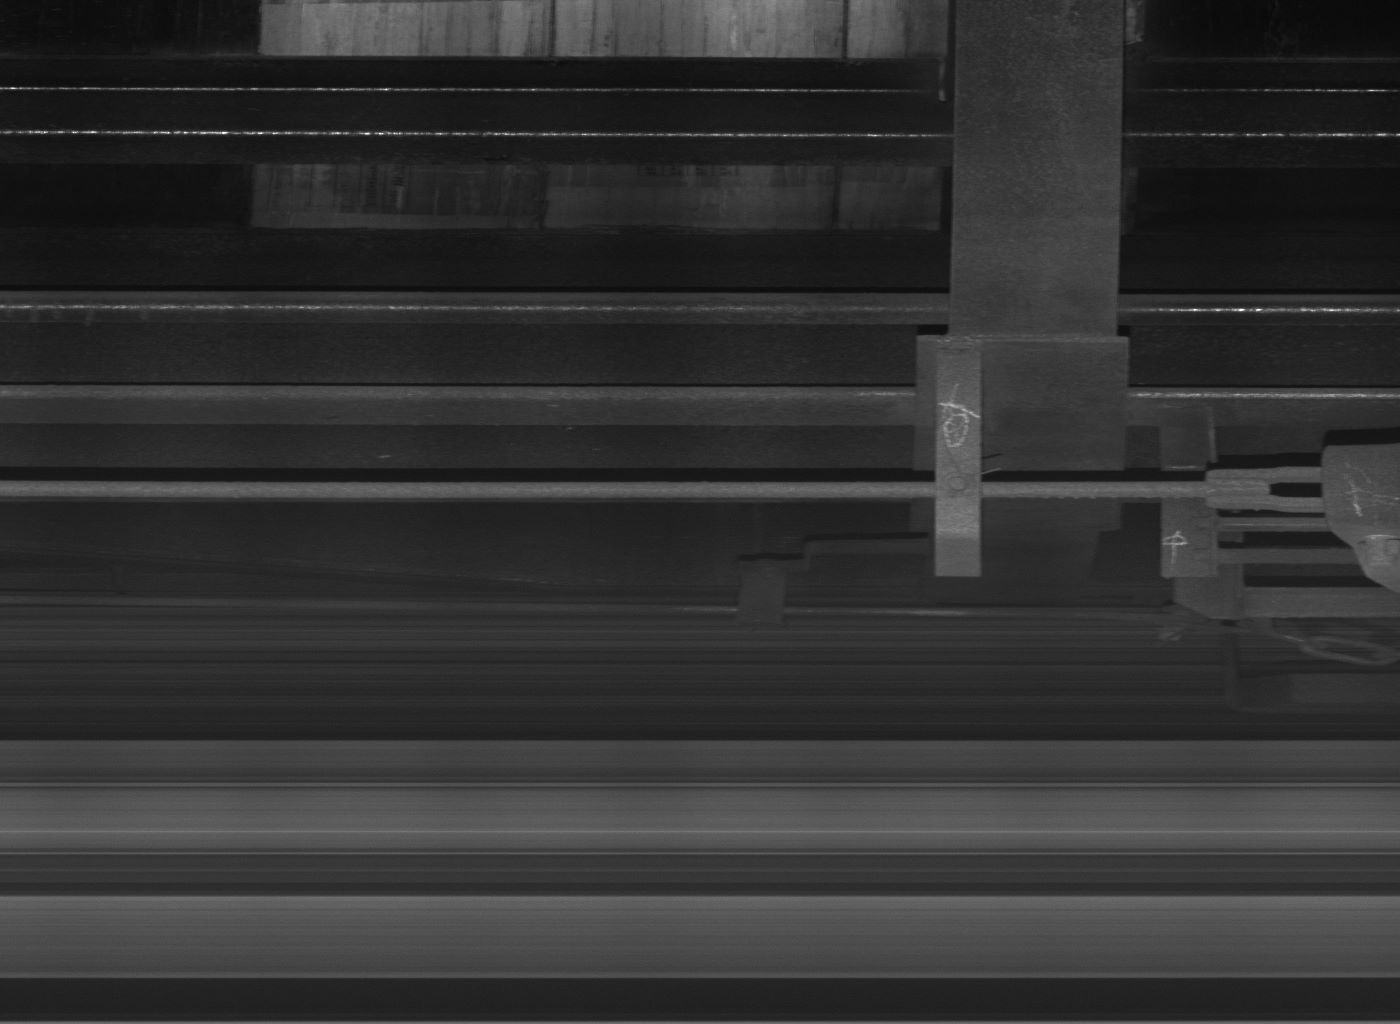normal: (932, 351, 982, 575)
